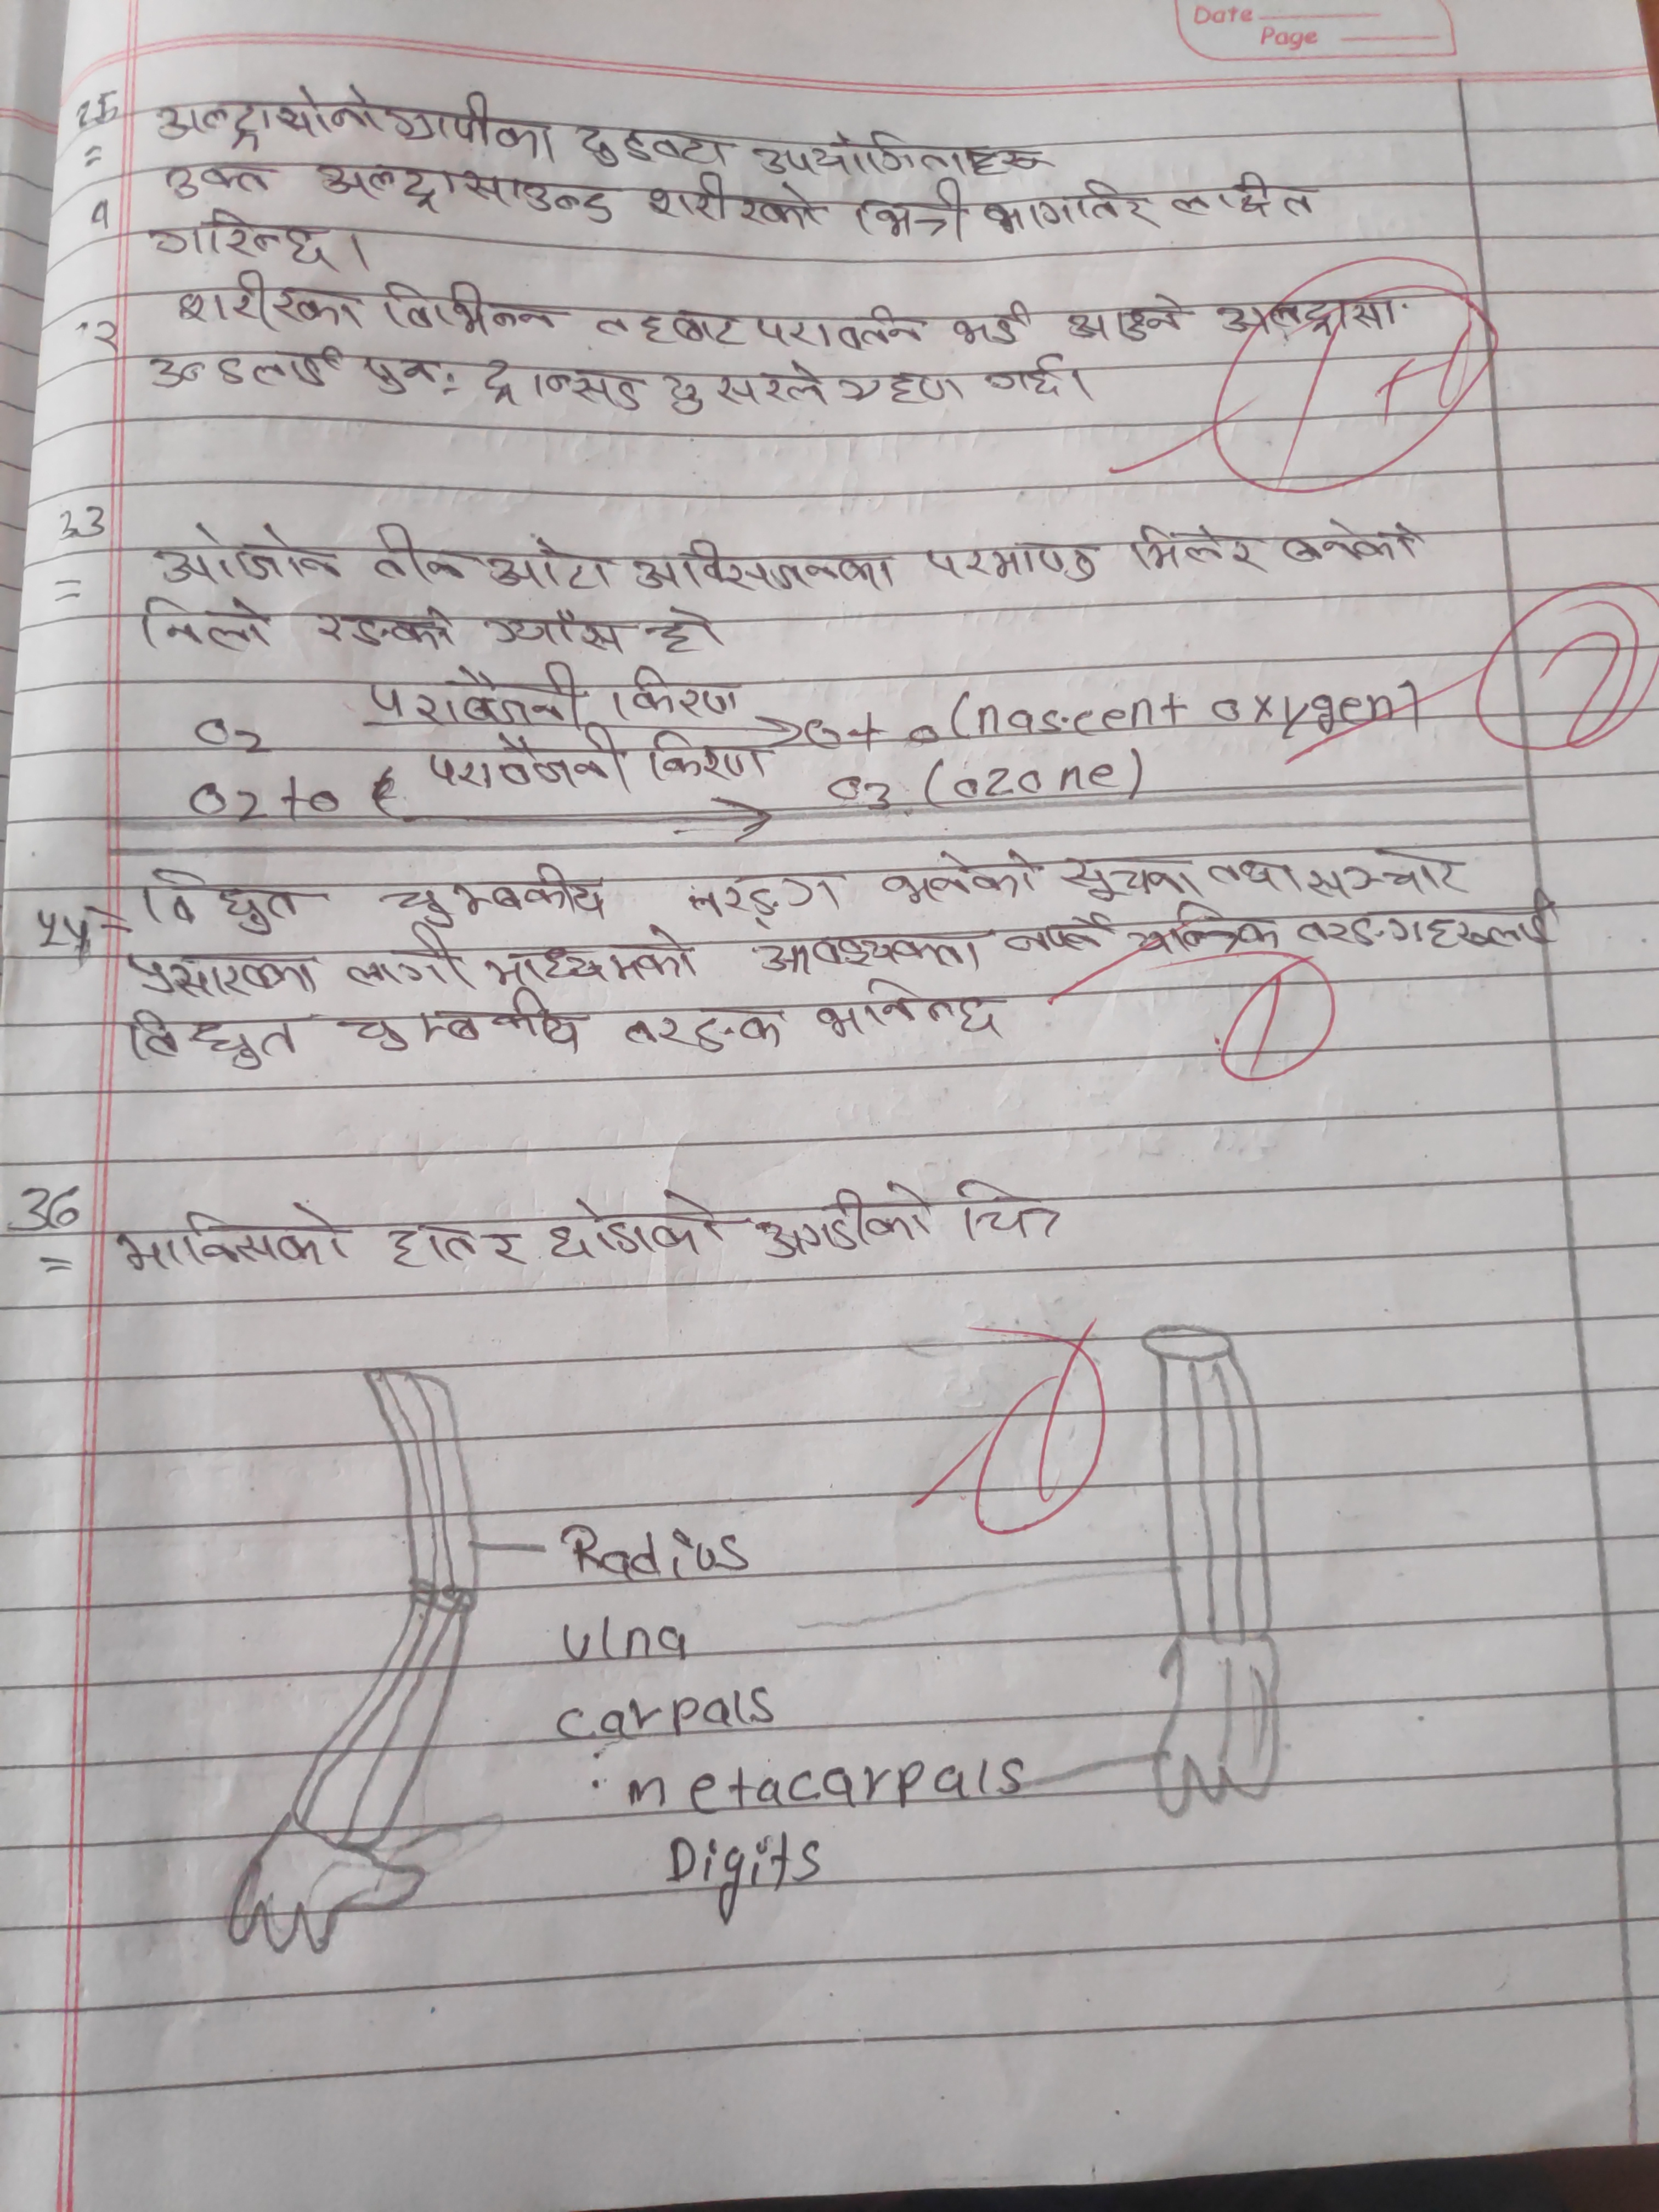text: (143, 84, 561, 160), (312, 153, 617, 221), (331, 984, 587, 1052), (119, 1202, 356, 1275), (748, 125, 1053, 181), (1297, 890, 1558, 953), (627, 533, 897, 592), (380, 866, 615, 930), (756, 1177, 936, 1261), (368, 658, 587, 726), (420, 730, 634, 798), (537, 1186, 725, 1261), (173, 265, 371, 333), (378, 270, 561, 343), (812, 975, 1000, 1045), (488, 923, 699, 984), (134, 867, 308, 941), (150, 519, 335, 585), (471, 348, 645, 418), (119, 942, 315, 1003), (640, 172, 830, 235), (124, 1005, 298, 1073), (143, 209, 335, 270), (981, 174, 1164, 235), (744, 930, 983, 975), (681, 860, 843, 927), (878, 853, 1051, 914), (132, 592, 279, 662), (573, 113, 735, 176), (657, 359, 833, 416), (1300, 843, 1476, 900), (915, 533, 1101, 587), (1169, 162, 1321, 225), (1051, 843, 1199, 906), (340, 927, 469, 998), (146, 347, 335, 395), (845, 172, 969, 246), (486, 531, 620, 597), (1124, 514, 1263, 577), (1211, 293, 1405, 336), (758, 307, 929, 355), (615, 1007, 786, 1055), (1131, 902, 1283, 956), (953, 1172, 1072, 1240), (380, 1219, 528, 1273), (589, 300, 749, 348), (1279, 517, 1431, 568), (645, 732, 770, 791), (483, 603, 629, 653), (1000, 907, 1121, 968), (1060, 287, 1190, 343), (312, 601, 460, 650), (368, 519, 469, 590), (617, 669, 744, 725), (843, 359, 967, 415), (1202, 845, 1302, 900), (157, 158, 277, 204), (357, 343, 441, 401), (647, 601, 725, 662), (983, 355, 1072, 406), (946, 298, 1037, 345)
